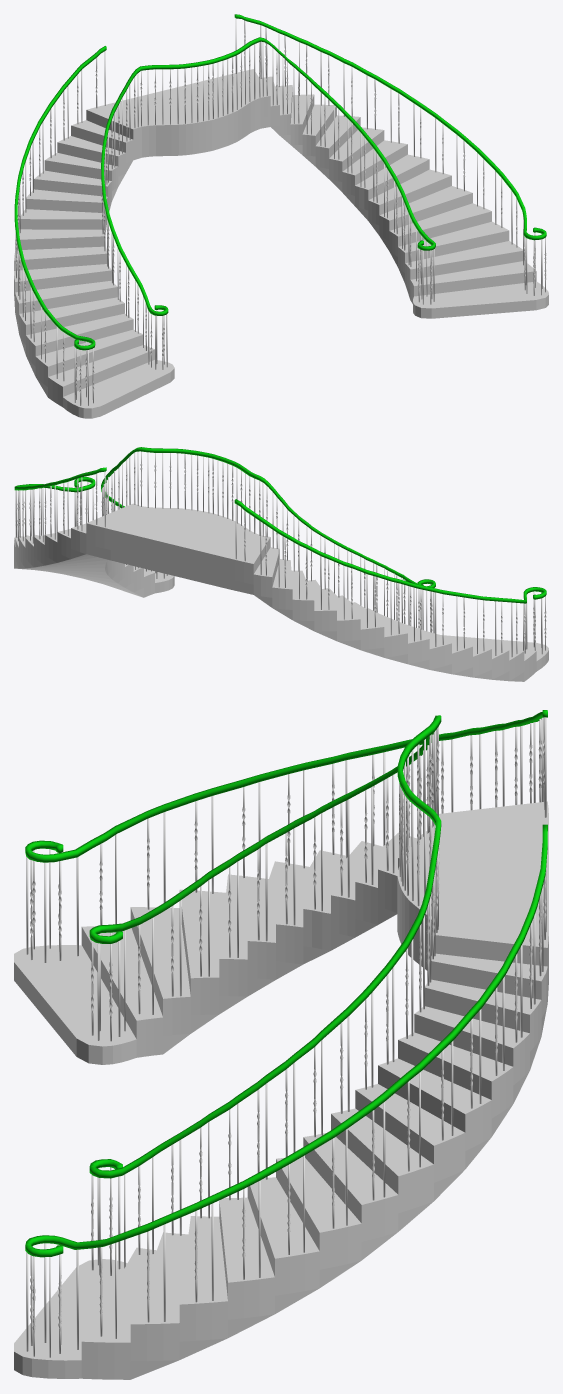
File: stairs.fbx
The picture shows the model from 3 angles, top to bottom: view 1: azimuth 30°, elevation 25°; view 2: azimuth 150°, elevation 25°; view 3: azimuth 270°, elevation 25°; orthographic projection. The views are drawn at different scales.
Parts seen in each view (by area): view 1: stairs, pins, railing; view 2: stairs, pins, railing; view 3: stairs, pins, railing.
Boxes of the visible parts, x1,y1,x2,y2 form: stairs: (14, 69, 548, 418); pins: (15, 18, 546, 405); railing: (14, 14, 546, 350); stairs: (14, 503, 548, 681); pins: (15, 451, 546, 657); railing: (14, 447, 546, 603); stairs: (14, 801, 548, 1379); pins: (26, 717, 546, 1357); railing: (25, 710, 547, 1257).
Bounding box in the file's own units: 965 × 435 × 523.
